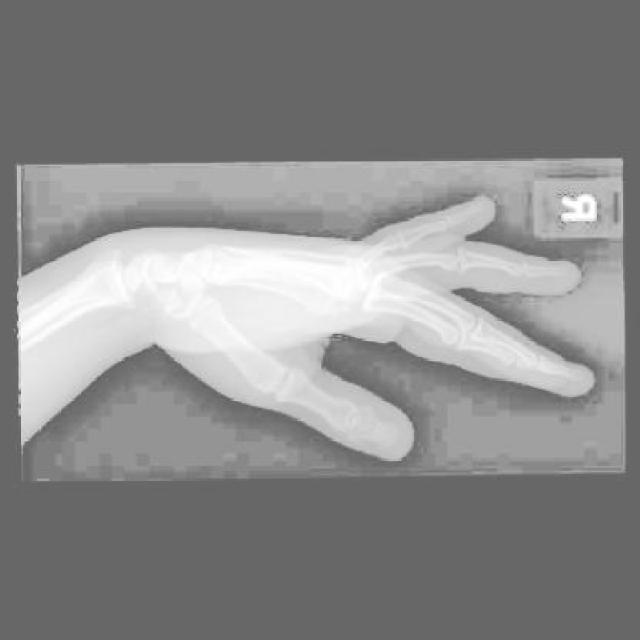Fracture: (451, 256, 473, 282)
